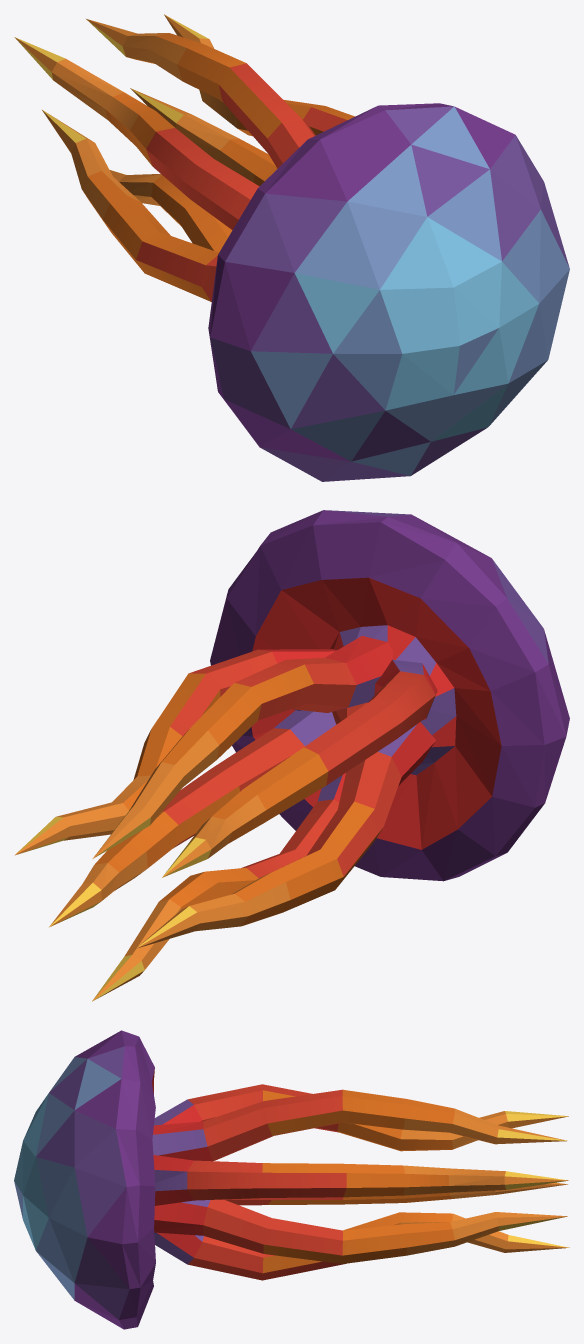
Rendered from jellyfish.glb.
3 renders of one model, top to bottom at view 1: azimuth 30°, elevation 25°; view 2: azimuth 150°, elevation 25°; view 3: azimuth 270°, elevation 25°, orthographic. The views are drawn at different scales.
Parts seen in each view (by area): view 1: body, tenticles; view 2: body, tenticles; view 3: tenticles, body.
Part boxes in pixels (left/top/right/bottom): body: left=208, top=103, right=569, bottom=481; tenticles: left=14, top=14, right=354, bottom=301; body: left=210, top=510, right=569, bottom=881; tenticles: left=14, top=636, right=437, bottom=1001; tenticles: left=152, top=1084, right=569, bottom=1280; body: left=14, top=1030, right=155, bottom=1329.
Size of the model in its own units: 1.72 by 1.71 by 3.19.
1 material, 1 textured.
